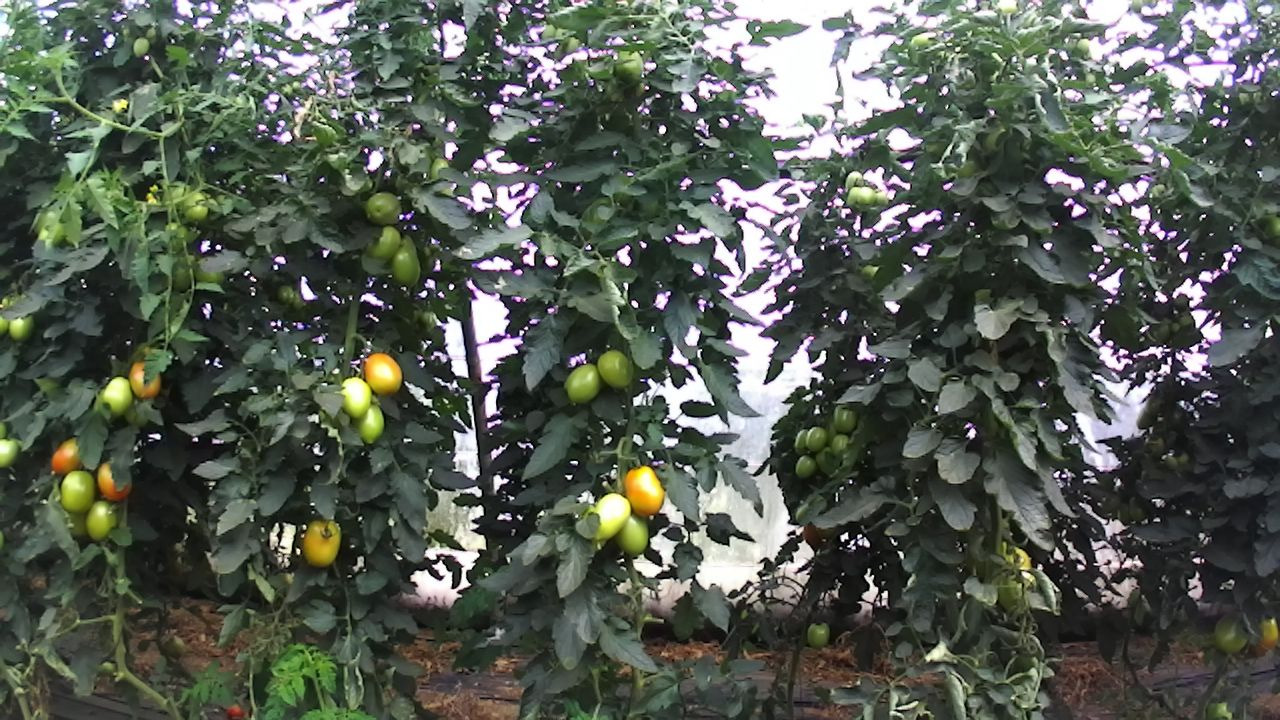tomato: (586, 488, 634, 544), (621, 463, 665, 522), (301, 517, 343, 570), (362, 350, 404, 397), (389, 233, 422, 289), (1210, 610, 1251, 655), (58, 468, 96, 515), (84, 496, 120, 544), (614, 511, 651, 557), (338, 374, 373, 421), (595, 348, 635, 389), (566, 361, 603, 405), (362, 190, 403, 228), (351, 400, 385, 444), (101, 374, 135, 418), (128, 358, 163, 400), (49, 434, 81, 478), (7, 311, 36, 343), (182, 190, 208, 223), (832, 403, 858, 434), (806, 620, 831, 651), (794, 452, 819, 480), (0, 436, 19, 470), (804, 425, 827, 453), (828, 431, 850, 458), (791, 428, 808, 458), (131, 34, 150, 59)
